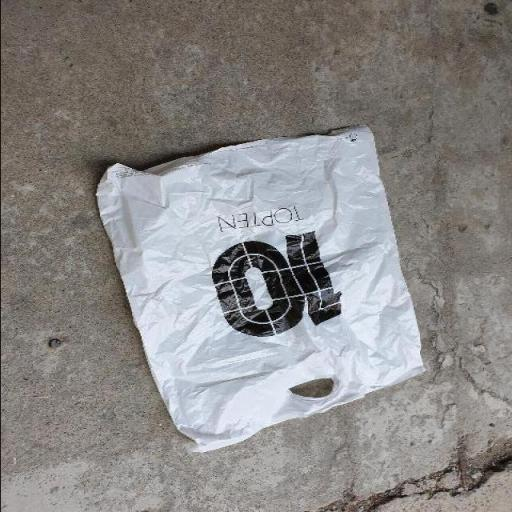plastic-bag: (92, 120, 428, 454)
